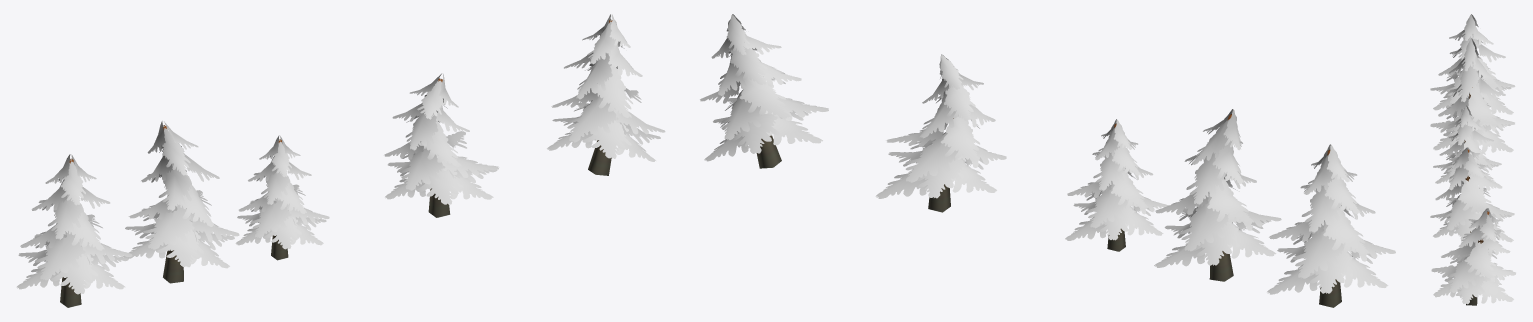
The model's file is pines2.fbx.
The picture shows the model from 3 angles, left to right: view 1: azimuth 30°, elevation 25°; view 2: azimuth 150°, elevation 25°; view 3: azimuth 270°, elevation 25°; orthographic projection. The views are drawn at different scales.
Parts seen in each view (by area): view 1: pine00.001, pine00, pine00.004, pine00.003, pine00.002; view 2: pine00.001, pine00, pine00.004, pine00.003, pine00.002; view 3: pine00.004, pine00.001, pine00.003, pine00, pine00.002.
Part boxes in pixels (x1,y1,x2,y2): pine00.001: (123,121,239,283); pine00: (16,154,132,307); pine00.004: (547,14,665,175); pine00.003: (384,73,499,217); pine00.002: (235,135,329,260); pine00.001: (1154,109,1281,281); pine00: (1267,144,1395,307); pine00.004: (700,14,828,168); pine00.003: (875,54,1006,212); pine00.002: (1065,119,1168,251); pine00.004: (1431,208,1515,305); pine00.001: (1430,38,1514,152); pine00.003: (1430,147,1514,242); pine00: (1430,14,1515,114); pine00.002: (1433,105,1501,186).
Bounding box in the file's own units: 2008 × 484 × 345.
